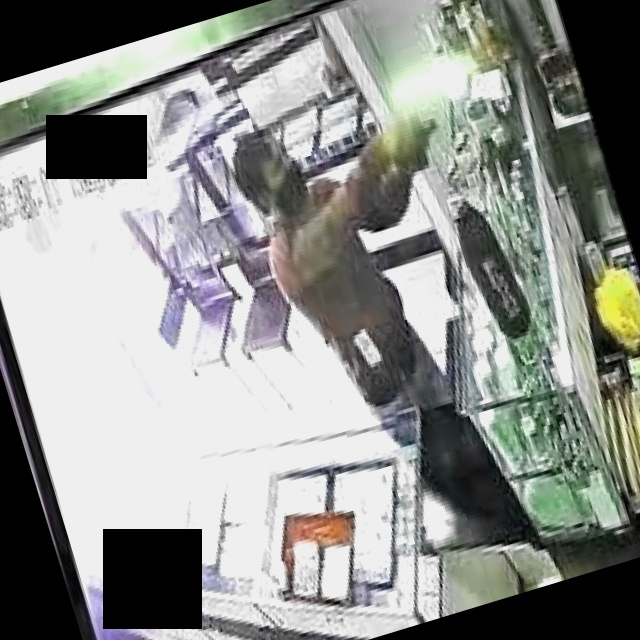gun: (385, 97, 460, 175)
